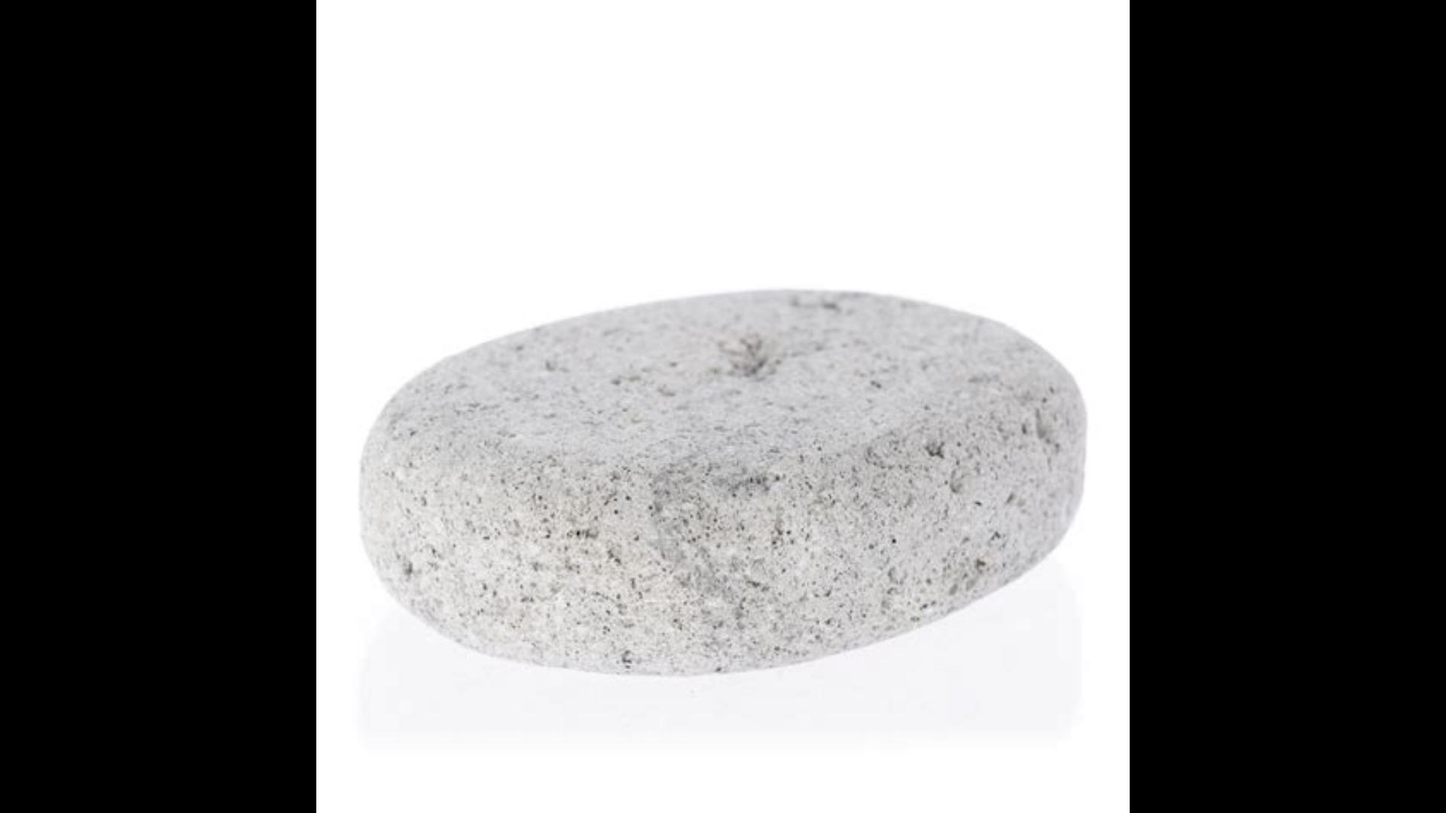rock: (363, 292, 1082, 672)
